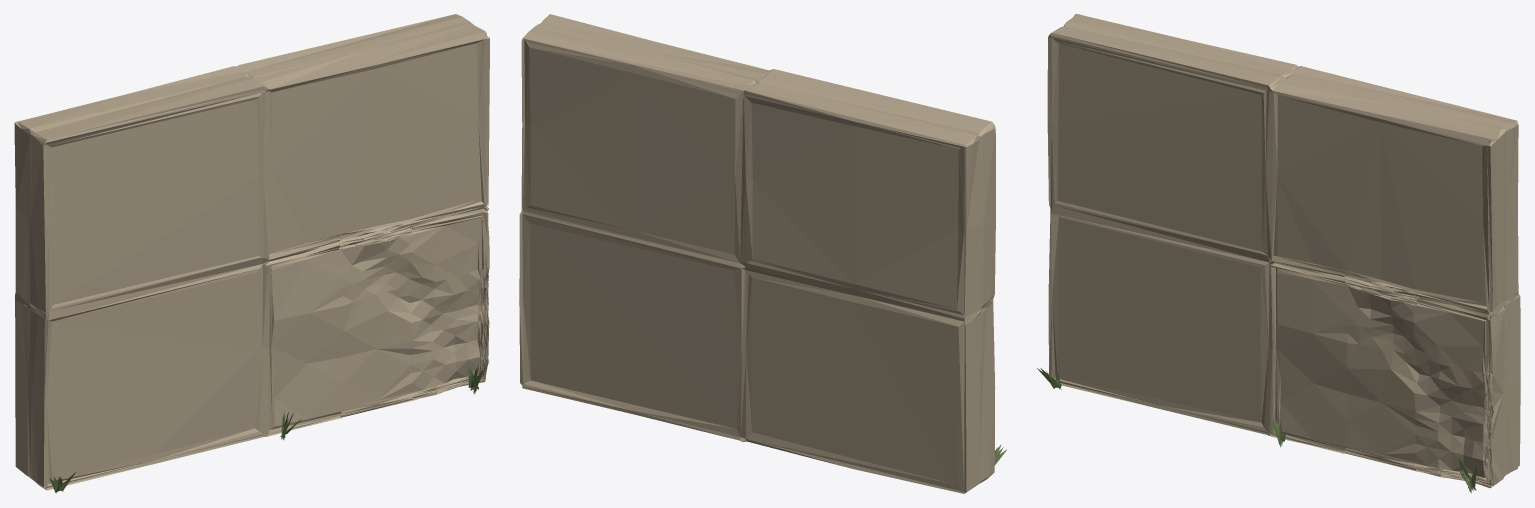
Rendered from SM_Wall_C.fbx.
The picture shows the model from 3 angles, left to right: view 1: azimuth 30°, elevation 25°; view 2: azimuth 150°, elevation 25°; view 3: azimuth 330°, elevation 25°; orthographic projection.
Visible parts, largest first — view 1: SM_Wall_C; view 2: SM_Wall_C; view 3: SM_Wall_C.
Boxes of the visible parts, x1,y1,x2,y2 form: SM_Wall_C: [14, 14, 489, 493]; SM_Wall_C: [519, 14, 1006, 493]; SM_Wall_C: [1037, 14, 1520, 493].
Bounding box in the file's own units: 4.05 × 3.07 × 0.6534.
